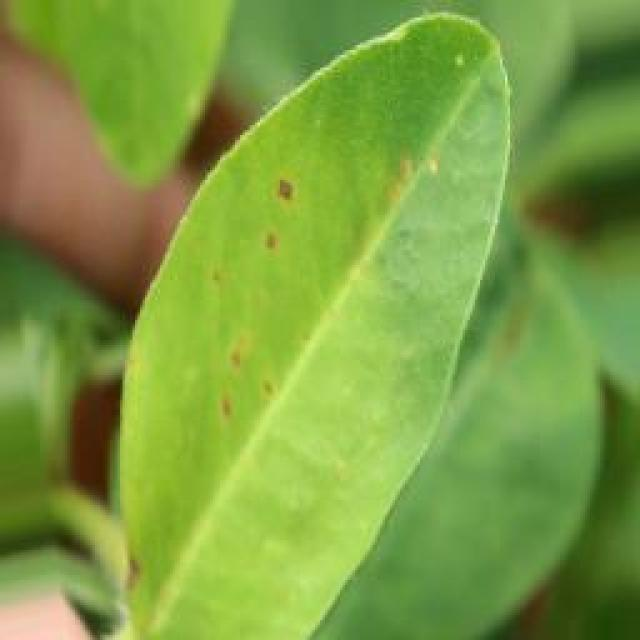Sigatoka: (196, 327, 306, 461), (248, 158, 332, 292), (87, 520, 172, 627), (373, 132, 478, 198), (165, 237, 229, 314)
